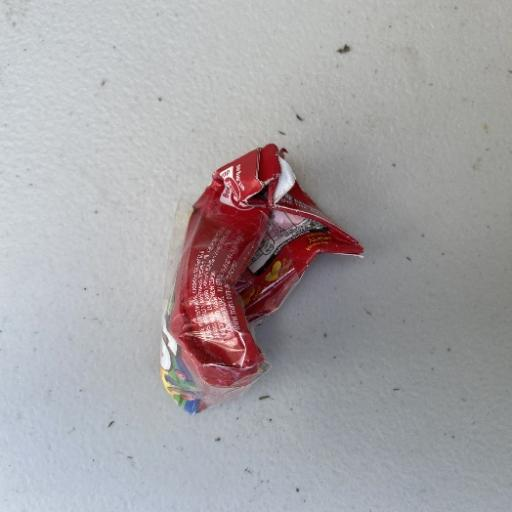Cardboard: (156, 142, 364, 416)
